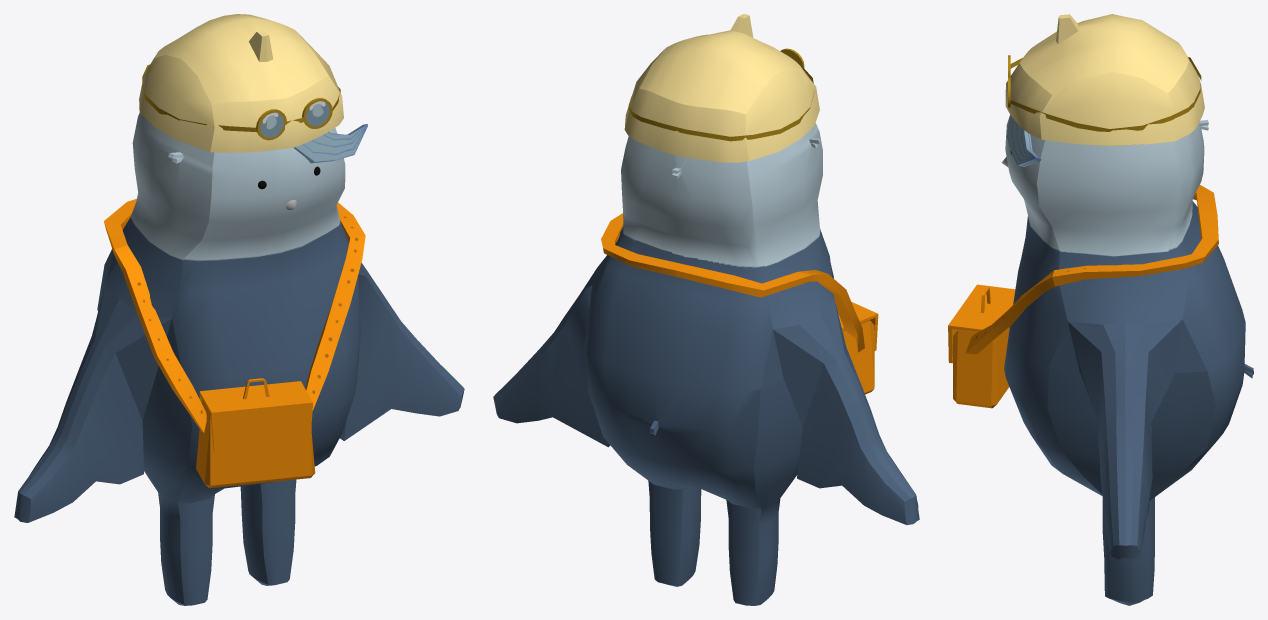
Rendered from 伐木工人.fbx.
3 renders of one model, left to right at view 1: azimuth 30°, elevation 25°; view 2: azimuth 150°, elevation 25°; view 3: azimuth 270°, elevation 25°, orthographic. The views are drawn at different scales.
Parts seen in each view (by area): view 1: polySurface1, polySurface2, bag3, glasses1, hair1; view 2: polySurface1, polySurface2, bag3, glasses1; view 3: polySurface1, polySurface2, bag3, glasses1, hair1.
Part boxes in pixels (box(x1,y1,x2,y2)): polySurface1: box(14, 113, 464, 605); polySurface2: box(139, 14, 343, 152); bag3: box(104, 199, 365, 488); glasses1: box(142, 64, 340, 140); hair1: box(294, 124, 367, 163); polySurface1: box(493, 123, 919, 605); polySurface2: box(624, 14, 819, 162); bag3: box(601, 213, 878, 394); glasses1: box(628, 48, 814, 141); polySurface1: box(1004, 116, 1253, 605); polySurface2: box(1005, 14, 1204, 145); bag3: box(948, 185, 1218, 408); glasses1: box(1008, 55, 1201, 131); hair1: box(1006, 115, 1041, 166).
Size of the model in its own units: 12.06 by 15.14 by 7.4.
7 materials, 5 textured.
